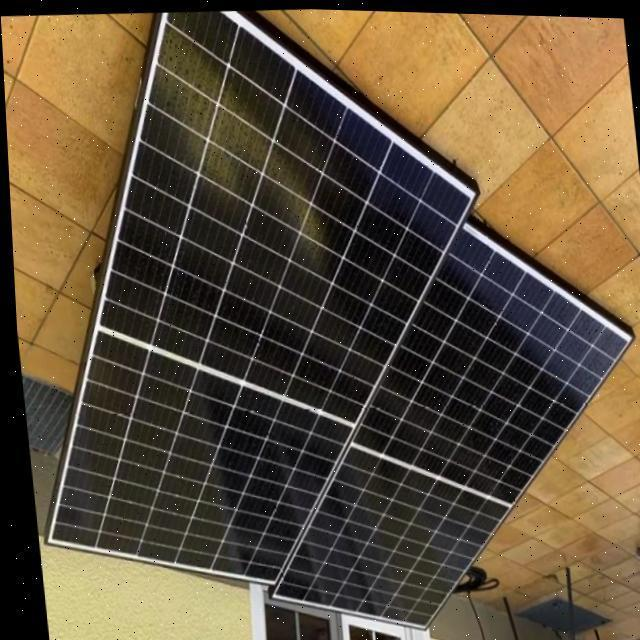Normal Solar Panel: (0, 0, 511, 597), (234, 207, 640, 638)
